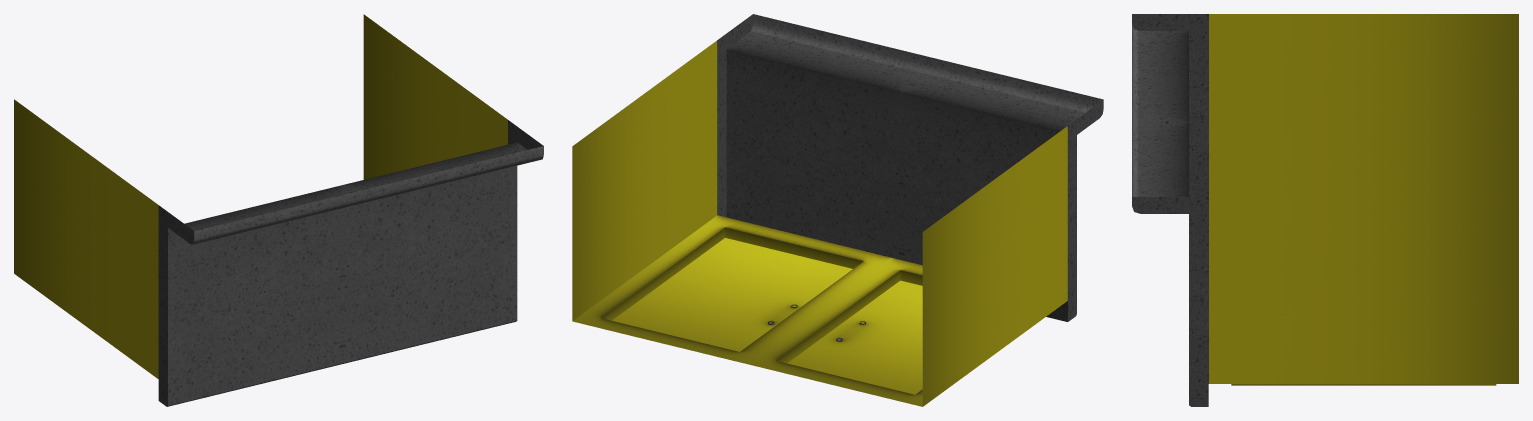
Rendered from counter_no_sink.obj.
The picture shows the model from 3 angles, left to right: view 1: azimuth 30°, elevation 25°; view 2: azimuth 150°, elevation 25°; view 3: azimuth 270°, elevation 25°; orthographic projection. The views are drawn at different scales.
Visible parts, largest first — view 1: cafe_counter; view 2: cafe_counter; view 3: cafe_counter.
Boxes of the visible parts, box(x1,y1,x2,y2) form: cafe_counter: box(14, 14, 543, 406); cafe_counter: box(572, 14, 1103, 406); cafe_counter: box(1132, 14, 1518, 406).
Bounding box in the file's own units: 120 × 65.84 × 107.
1 material, 1 textured.
